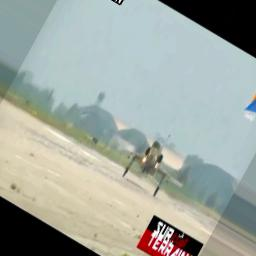Airplane: (119, 138, 184, 195)
